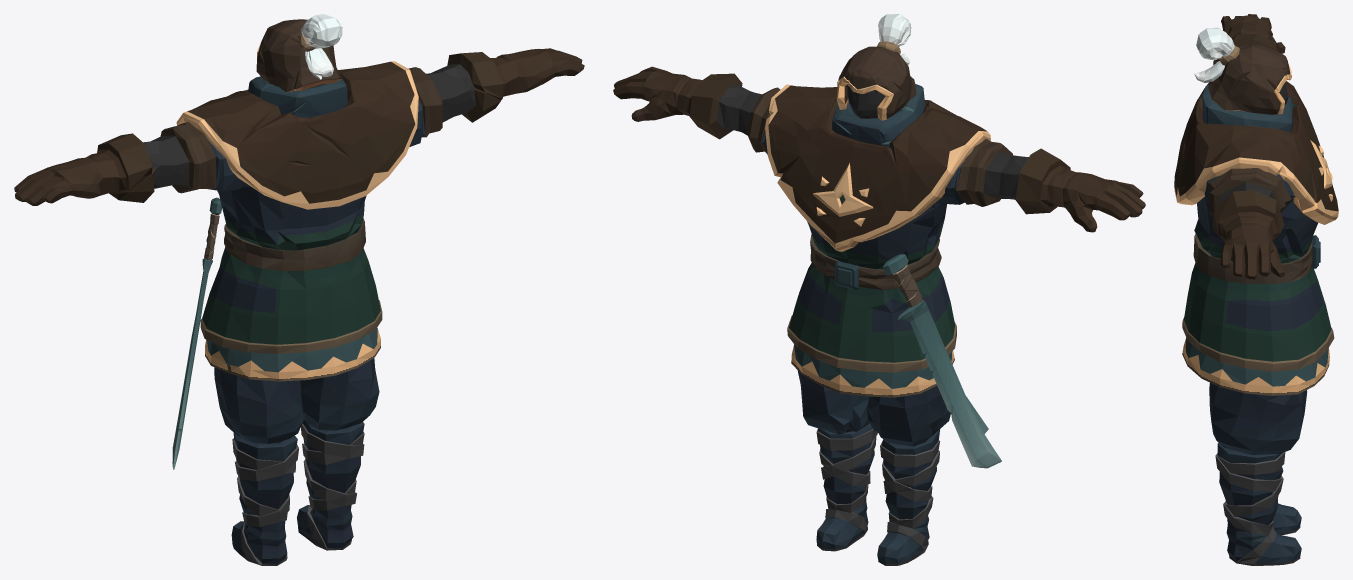
File: NPC_AP27Guard.glb
The picture shows the model from 3 angles, left to right: view 1: azimuth 30°, elevation 25°; view 2: azimuth 150°, elevation 25°; view 3: azimuth 270°, elevation 25°; orthographic projection. The views are drawn at different scales.
Visible parts, largest first — view 1: NPC_AP27Guard; view 2: NPC_AP27Guard; view 3: NPC_AP27Guard.
Part boxes in pixels (box(x1,y1,x2,y2)): NPC_AP27Guard: box(14, 14, 584, 565); NPC_AP27Guard: box(613, 14, 1145, 565); NPC_AP27Guard: box(1174, 14, 1338, 565).
Size of the model in its own units: 15.5 by 14.35 by 4.16.
1 material, 1 textured.
